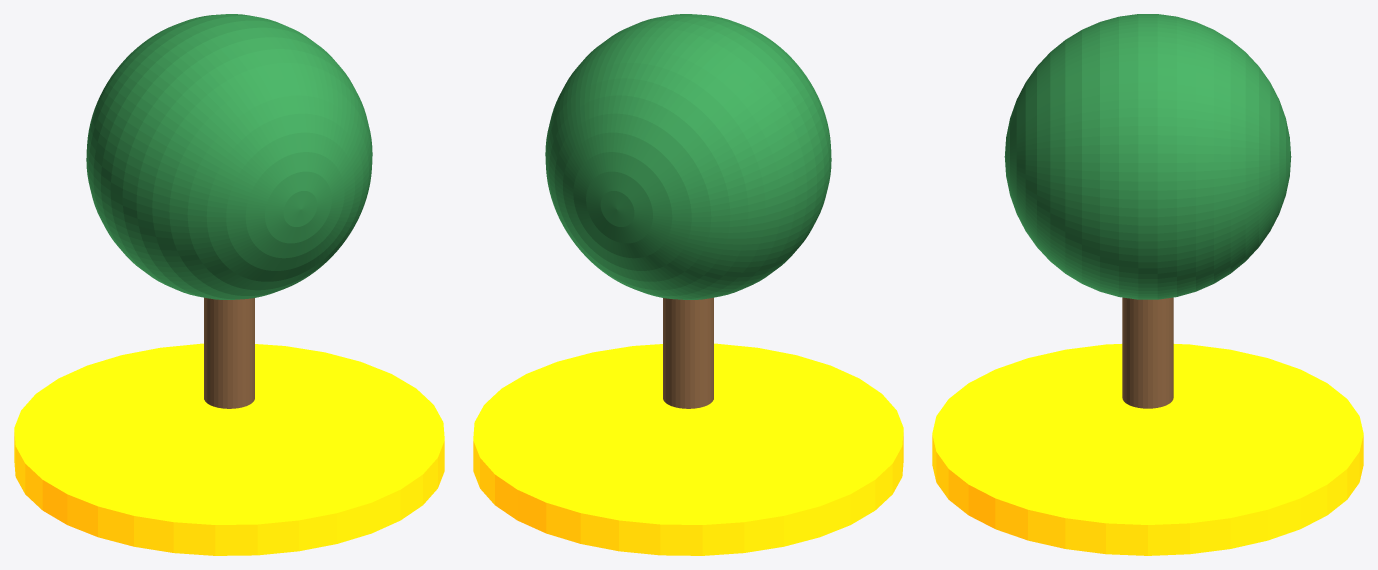
File: spanish_orange_tree.glb
3 renders of one model, left to right at view 1: azimuth 30°, elevation 25°; view 2: azimuth 150°, elevation 25°; view 3: azimuth 270°, elevation 25°, orthographic.
Visible parts, largest first — view 1: 11_19_Popular_Spanish_Orange_Tree_ROOT_base, 11_19_Popular_Spanish_Orange_Tree_part_02, 11_19_Popular_Spanish_Orange_Tree_part_01; view 2: 11_19_Popular_Spanish_Orange_Tree_ROOT_base, 11_19_Popular_Spanish_Orange_Tree_part_02, 11_19_Popular_Spanish_Orange_Tree_part_01; view 3: 11_19_Popular_Spanish_Orange_Tree_ROOT_base, 11_19_Popular_Spanish_Orange_Tree_part_02, 11_19_Popular_Spanish_Orange_Tree_part_01.
Part boxes in pixels (x1,y1,x2,y2): 11_19_Popular_Spanish_Orange_Tree_ROOT_base: (14,343,444,555); 11_19_Popular_Spanish_Orange_Tree_part_02: (86,14,372,299); 11_19_Popular_Spanish_Orange_Tree_part_01: (204,297,254,408); 11_19_Popular_Spanish_Orange_Tree_ROOT_base: (473,343,903,555); 11_19_Popular_Spanish_Orange_Tree_part_02: (545,14,831,299); 11_19_Popular_Spanish_Orange_Tree_part_01: (663,297,713,408); 11_19_Popular_Spanish_Orange_Tree_ROOT_base: (932,344,1363,555); 11_19_Popular_Spanish_Orange_Tree_part_02: (1004,14,1291,299); 11_19_Popular_Spanish_Orange_Tree_part_01: (1122,297,1173,408).
Size of the model in its own units: 0.76 by 0.85 by 0.76.
